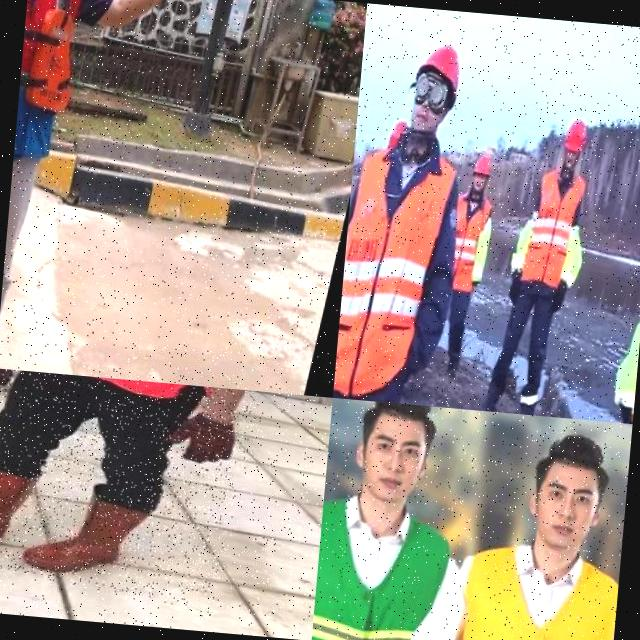boots: (23, 476, 144, 587), (0, 451, 38, 562)
helmet: (409, 36, 471, 100), (560, 115, 590, 156), (472, 149, 496, 180), (389, 117, 408, 145)
vest: (332, 134, 456, 406), (311, 486, 454, 640), (422, 530, 621, 640), (13, 0, 100, 165), (514, 160, 590, 296), (436, 189, 496, 297)
